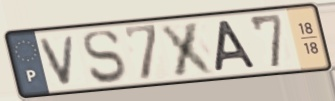7: (123, 22, 162, 83), (247, 13, 287, 71)
A: (213, 18, 260, 74)
S: (80, 28, 128, 86)
V: (37, 32, 78, 88)
X: (157, 19, 221, 79)
